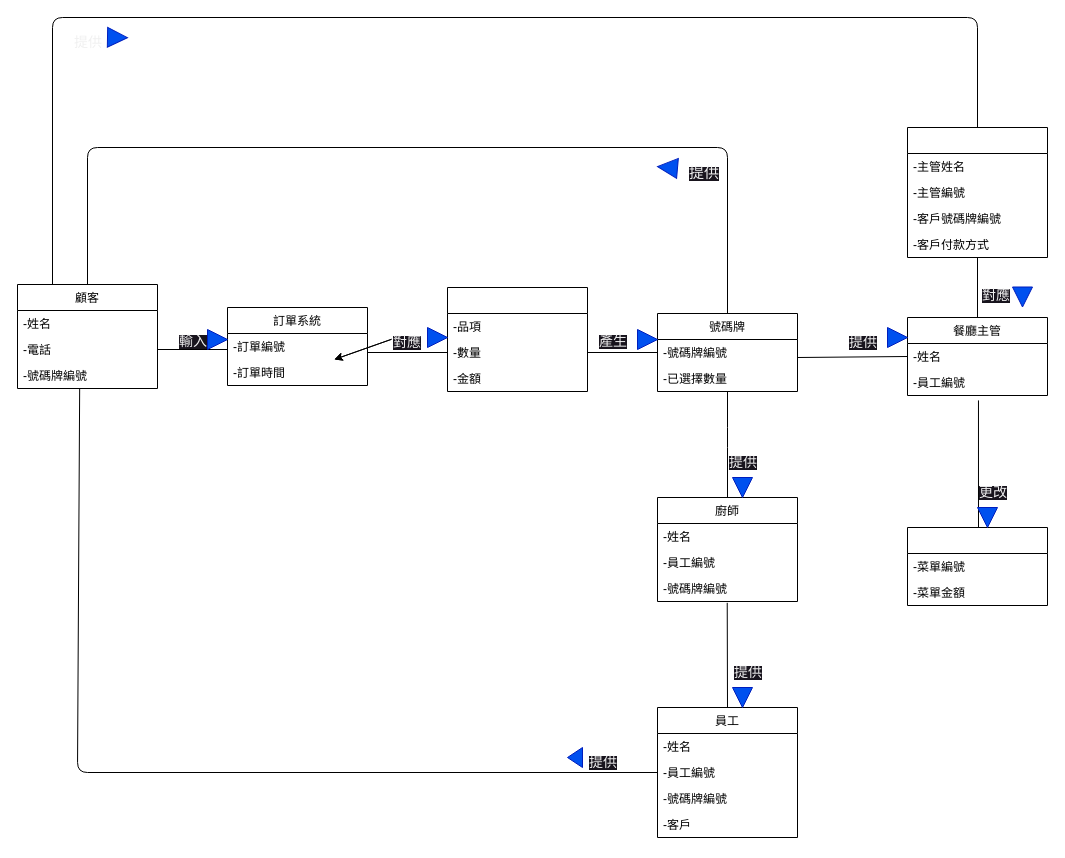
Some shapes in this 1065 by 858 pixel diagram are drawn without their labels. The box of each missing label's shape, as (x1, y1, x2, y2) in pixels:
付款系統: (906, 126, 1048, 258)
後台系統: (906, 526, 1048, 606)
購物車: (446, 286, 588, 392)
